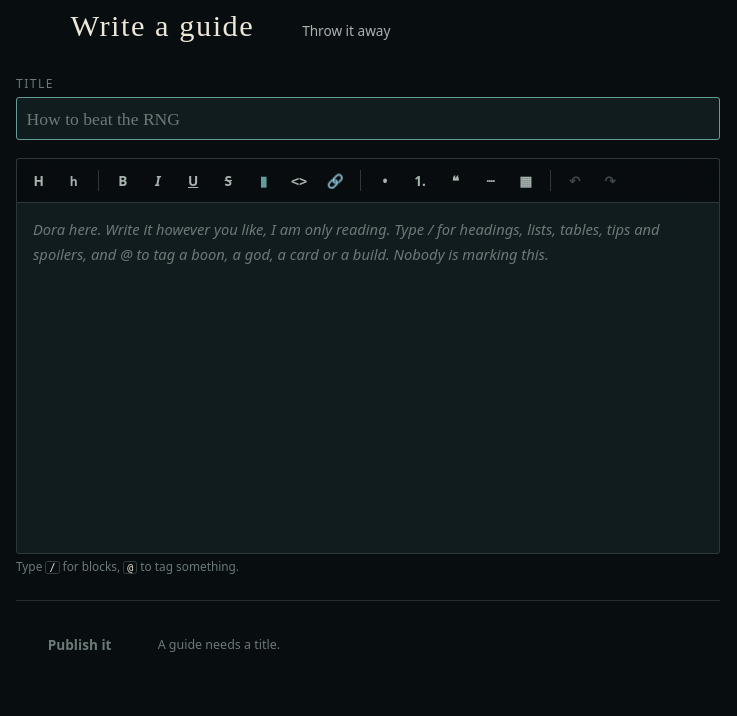
Test: publishing › keeps the writing on screen when the server refuses, and says why
Step 1. Type "One more" into the field labelled "Title" → {"x": 368, "y": 119}, box [16,97,720,140]
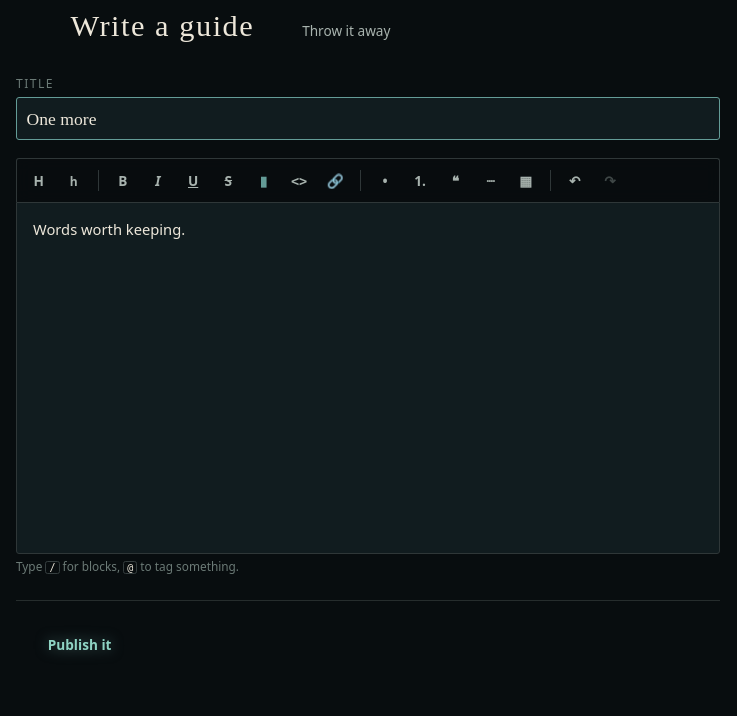
Step 2. Click the button "Publish it" → {"x": 80, "y": 645}, box [16,617,143,672]
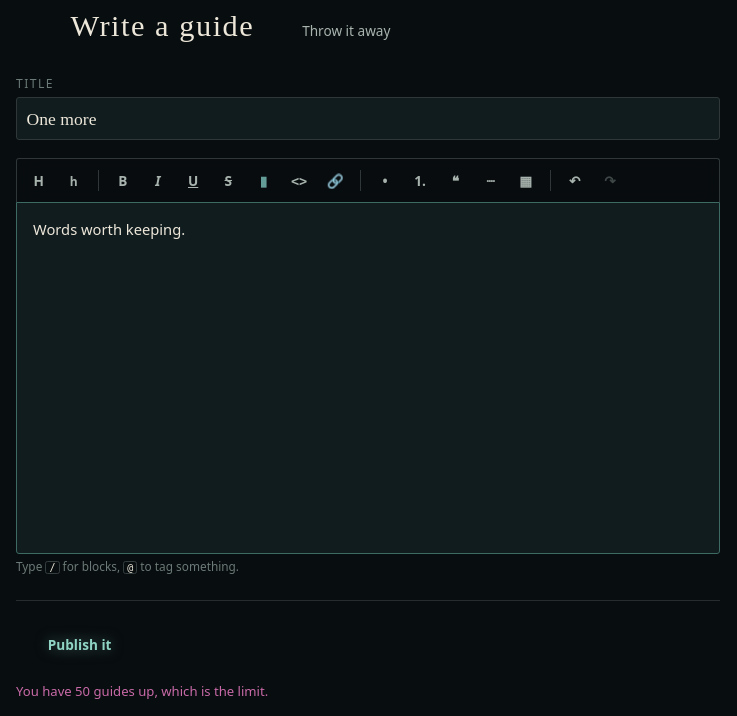
Check: the field labelled "Words worth keeping." is shown, box [16,202,720,554]
Check: the text box labelled "Words worth keeping." is shown, box [33,219,185,239]
Check: the text "50 guides up" is shown, box [16,682,268,700]
